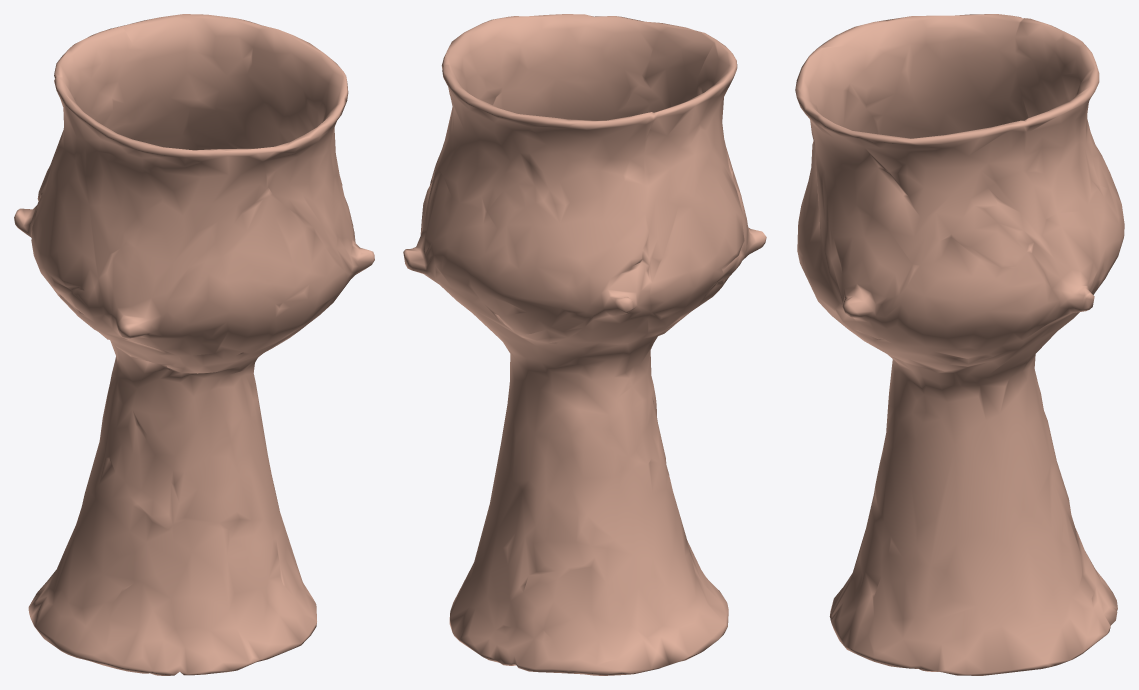
File: wc-neolithic-pottery.lod1.glb
3 views of the same model, side by side, from view 1: azimuth 30°, elevation 25°; view 2: azimuth 150°, elevation 25°; view 3: azimuth 270°, elevation 25° (orthographic).
Visible parts, largest first — view 1: wc-neolithic-pottery; view 2: wc-neolithic-pottery; view 3: wc-neolithic-pottery.
Part boxes in pixels (box(x1,y1,x2,y2)): wc-neolithic-pottery: box(14, 14, 374, 675); wc-neolithic-pottery: box(403, 14, 766, 675); wc-neolithic-pottery: box(795, 14, 1124, 675).
Size of the model in its own units: 0.1075 by 0.2 by 0.1069.
